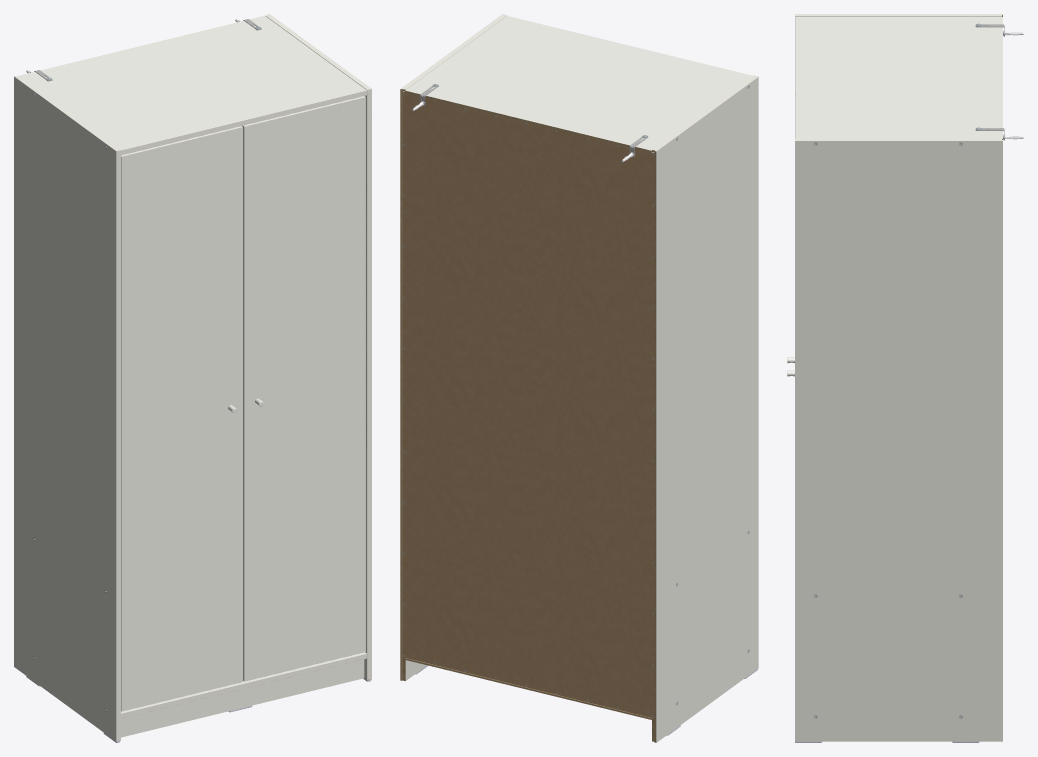
The model's file is 04 - KLEPPSTAD Wardrobe with 2 doors - white 79x55x176 cm.glb.
3 renders of one model, left to right at view 1: azimuth 30°, elevation 25°; view 2: azimuth 150°, elevation 25°; view 3: azimuth 270°, elevation 25°, orthographic.
Visible parts, largest first — view 1: Mesh_0; view 2: Mesh_0; view 3: Mesh_0.
Boxes of the visible parts, bbox=[...] form: Mesh_0: bbox=[14, 14, 371, 742]; Mesh_0: bbox=[400, 14, 758, 742]; Mesh_0: bbox=[787, 14, 1023, 742].
Bounding box in the file's own units: 0.795 × 1.76 × 0.6254.
Materials: 1 (1 with a texture image).
